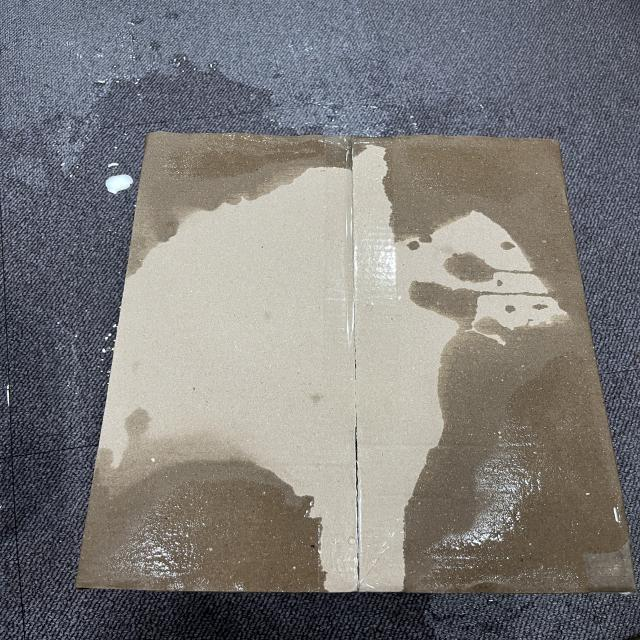wet: (401, 323, 640, 591), (378, 143, 582, 311), (78, 458, 332, 587), (128, 133, 351, 277)
